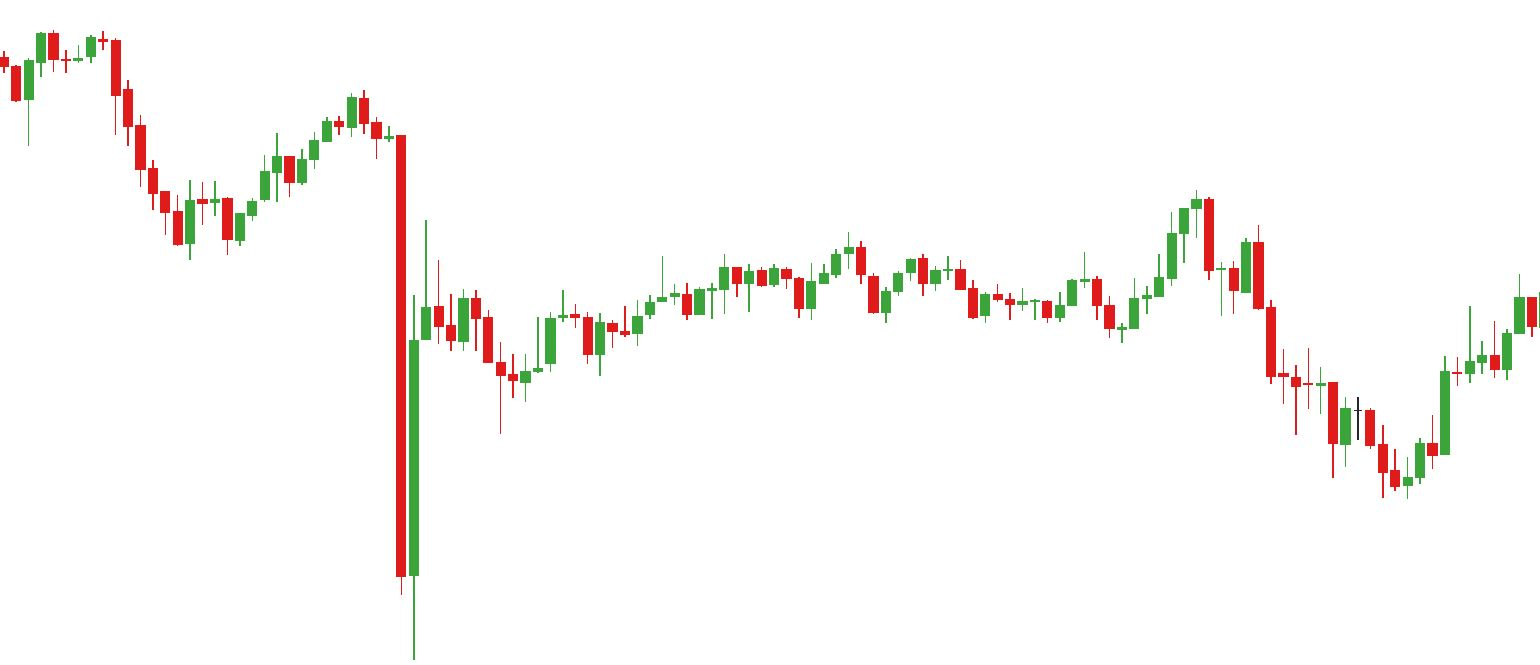buy: (1327, 399, 1425, 505)
sell: (1078, 186, 1214, 315)
